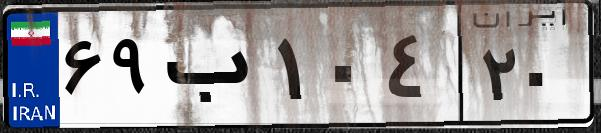0: (330, 28, 385, 110), (525, 38, 570, 115)
1: (270, 28, 330, 110)
2: (475, 38, 525, 113)
4: (385, 28, 445, 110)
6: (57, 26, 110, 100)
9: (110, 28, 158, 98)
ب: (158, 20, 270, 120)
